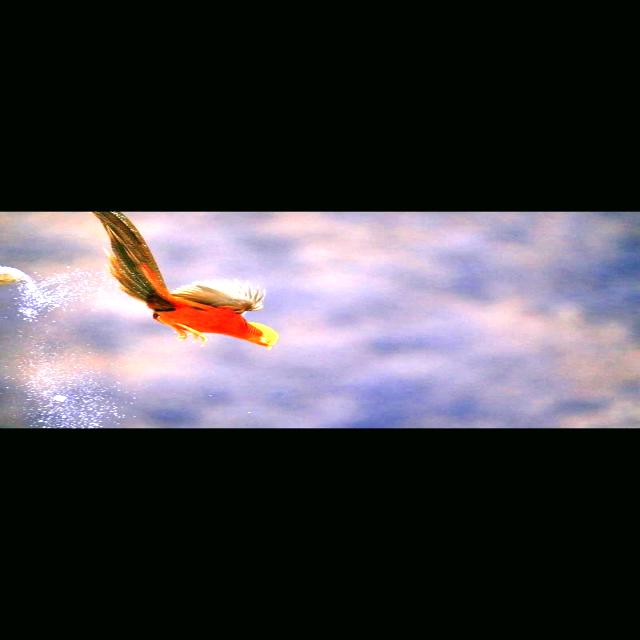Chrysolophus pictus feather: (93, 212, 168, 303)
